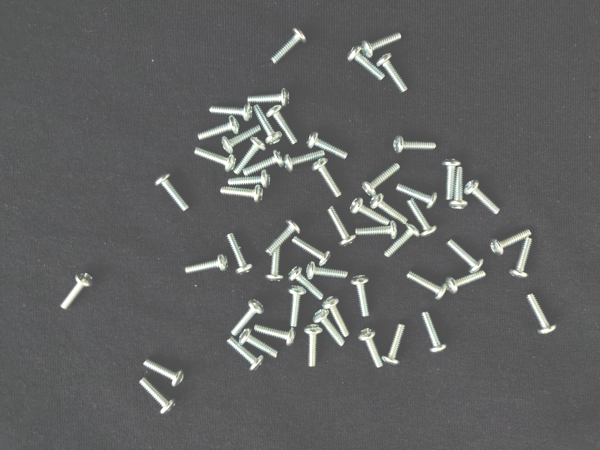shortscrew: (138, 377, 177, 415), (446, 237, 485, 274), (155, 171, 189, 212), (271, 27, 308, 64), (362, 161, 400, 197), (526, 292, 557, 336), (384, 222, 421, 258), (233, 137, 268, 175), (142, 357, 186, 387), (265, 105, 298, 145), (288, 265, 324, 301), (228, 338, 265, 373), (464, 179, 501, 214), (347, 46, 385, 80), (312, 157, 343, 198), (266, 220, 302, 255), (405, 270, 447, 300), (61, 273, 95, 310), (232, 299, 265, 337), (377, 53, 408, 93), (307, 131, 349, 160), (313, 308, 344, 347), (283, 145, 326, 173), (292, 237, 332, 267), (408, 198, 438, 238), (221, 124, 261, 154), (327, 206, 356, 247), (489, 228, 533, 255), (192, 146, 236, 173), (370, 193, 408, 224), (239, 329, 278, 359), (396, 182, 439, 209), (227, 232, 253, 276), (350, 197, 389, 226), (243, 150, 284, 177), (323, 296, 349, 338), (198, 116, 240, 142), (361, 33, 402, 59), (383, 323, 407, 366), (510, 236, 534, 279), (358, 328, 383, 368), (217, 184, 264, 205), (423, 312, 447, 353), (254, 324, 296, 346), (446, 271, 486, 294), (228, 169, 271, 190), (186, 255, 229, 275), (393, 134, 436, 154), (350, 274, 370, 317), (441, 158, 461, 200), (288, 286, 308, 327), (449, 167, 468, 210), (248, 88, 291, 107), (355, 221, 398, 240), (307, 261, 349, 280), (210, 104, 254, 122), (305, 324, 323, 367), (265, 246, 283, 282)
